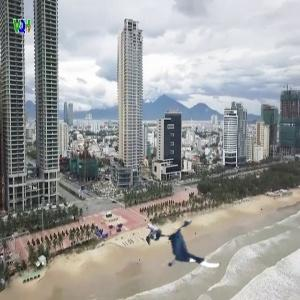drone: (157, 216, 223, 282)
